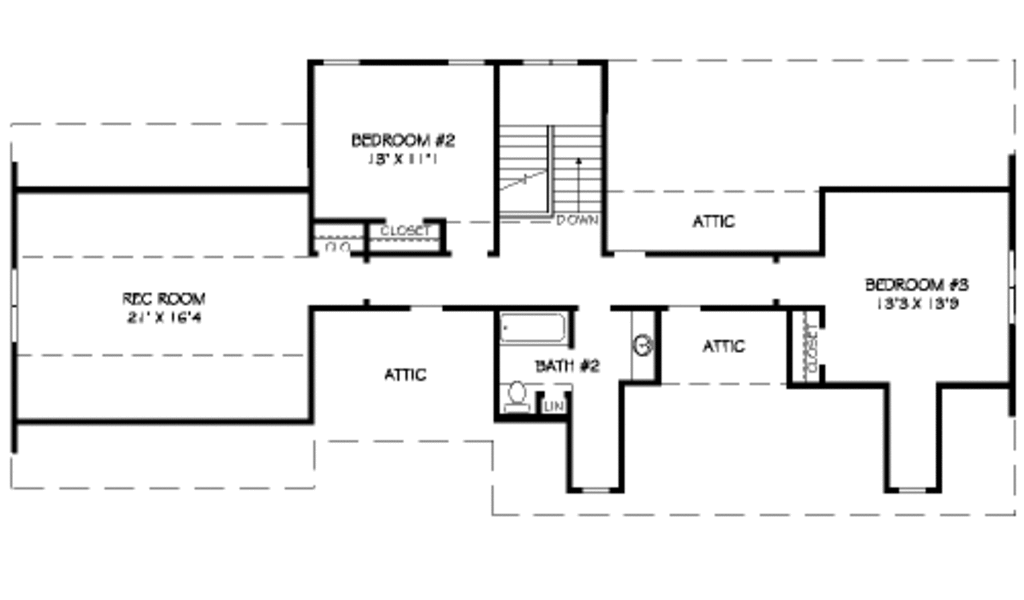large_sink: (501, 371, 541, 422)
stairs: (493, 115, 613, 229)
tub: (492, 309, 583, 351)
window: (517, 51, 585, 75), (1003, 250, 1018, 328), (8, 271, 21, 343), (315, 54, 363, 71), (891, 479, 924, 496), (576, 485, 613, 496)
